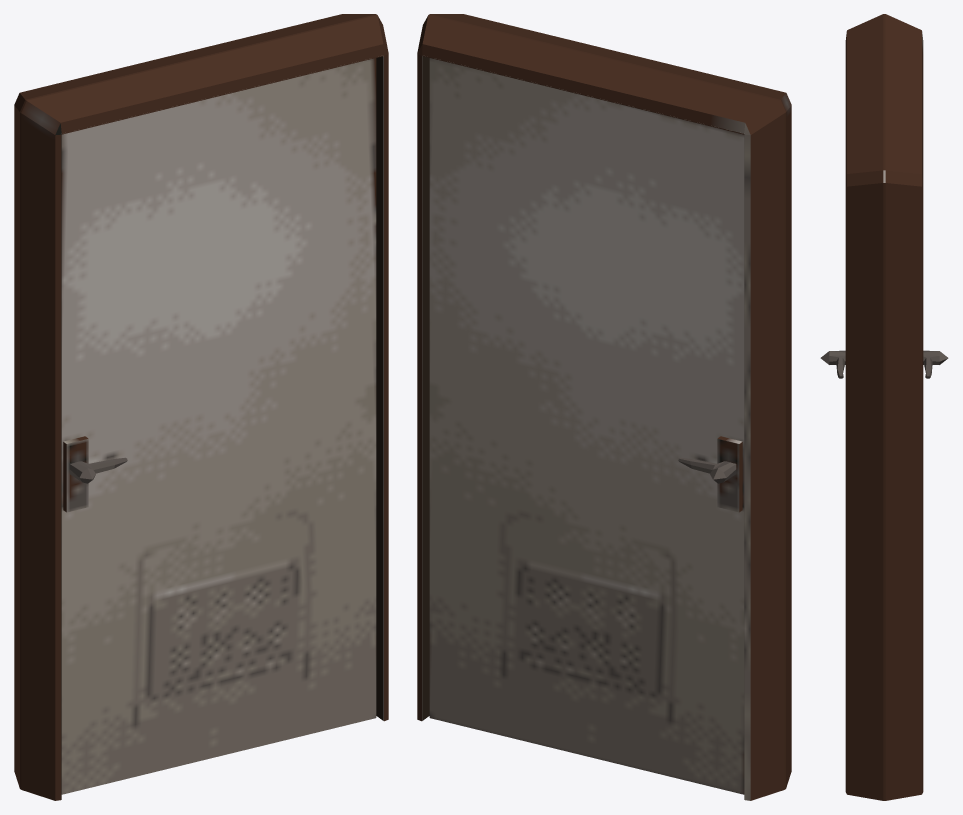
The model's file is InteriorDoor.fbx.
3 views of the same model, side by side, from view 1: azimuth 30°, elevation 25°; view 2: azimuth 150°, elevation 25°; view 3: azimuth 270°, elevation 25° (orthographic). The views are drawn at different scales.
Parts seen in each view (by area): view 1: IndoorDoor1, IndoorRestraint1, Handle; view 2: IndoorDoor1, IndoorRestraint1, Handle; view 3: IndoorRestraint1, Handle.
Part boxes in pixels (x1=…): IndoorDoor1: x1=61, y1=58, x2=376, y2=794; IndoorRestraint1: x1=14, y1=14, x2=388, y2=800; Handle: x1=69, y1=457, x2=127, y2=483; IndoorDoor1: x1=429, y1=58, x2=744, y2=794; IndoorRestraint1: x1=417, y1=14, x2=791, y2=800; Handle: x1=678, y1=457, x2=736, y2=483; IndoorRestraint1: x1=845, y1=14, x2=923, y2=800; Handle: x1=820, y1=350, x2=948, y2=378.
Size of the model in its own units: 1.11 by 2.01 by 0.3722.
